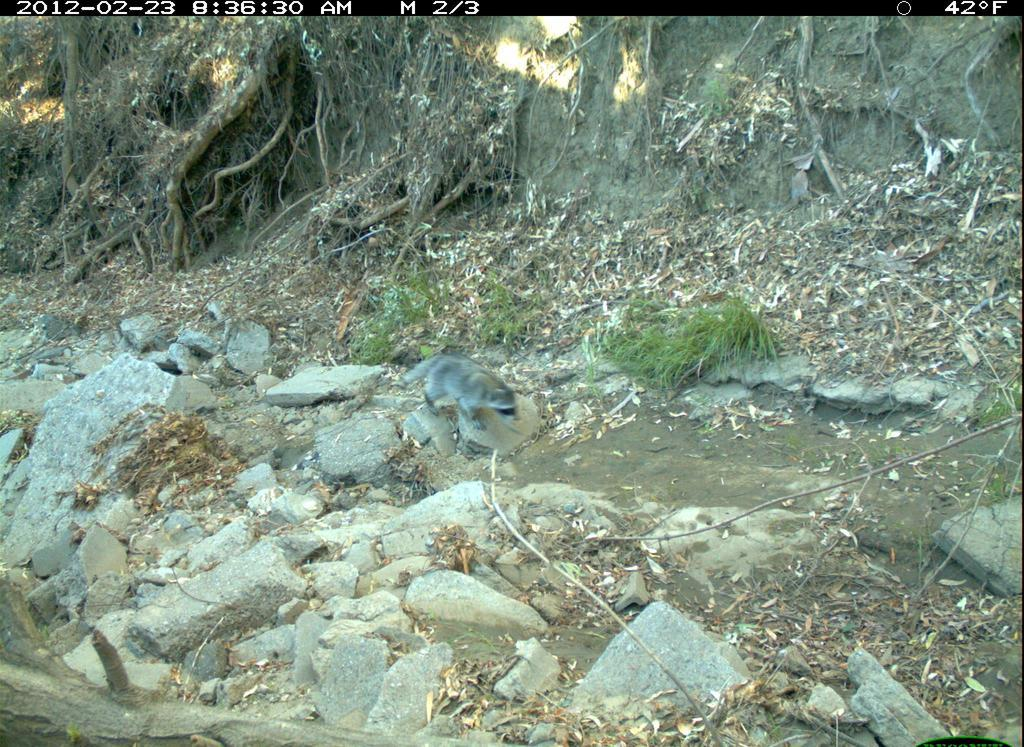raccoon: (396, 349, 529, 443)
